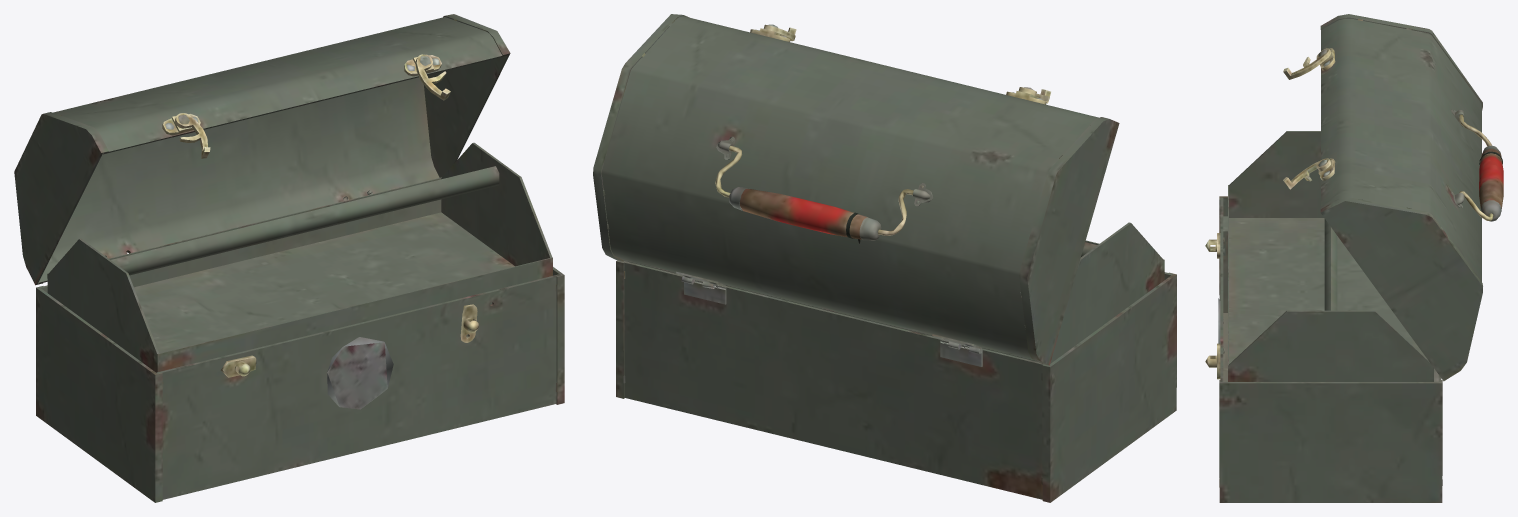
File: ph_toolbox.glb
3 renders of one model, left to right at view 1: azimuth 30°, elevation 25°; view 2: azimuth 150°, elevation 25°; view 3: azimuth 270°, elevation 25°, orthographic. The views are drawn at different scales.
Visible parts, largest first — view 1: Cylinder.015, metal_toolbox, metal_toolbox_tray, metal_toolbox_handle_latch_r, metal_toolbox_handle_latch_l; view 2: Cylinder.015, metal_toolbox, metal_toolbox_tray, metal_toolbox_handle; view 3: Cylinder.015, metal_toolbox_tray, metal_toolbox, metal_toolbox_handle, metal_toolbox_handle_latch_l, metal_toolbox_handle_latch_r.
Part boxes in pixels (bbox=[...]): Cylinder.015: bbox=[14, 14, 510, 285]; metal_toolbox: bbox=[36, 267, 564, 502]; metal_toolbox_tray: bbox=[47, 142, 552, 372]; metal_toolbox_handle_latch_r: bbox=[415, 54, 450, 100]; metal_toolbox_handle_latch_l: bbox=[175, 113, 210, 158]; Cylinder.015: bbox=[593, 14, 1119, 365]; metal_toolbox: bbox=[616, 260, 1176, 502]; metal_toolbox_tray: bbox=[628, 222, 1164, 363]; metal_toolbox_handle: bbox=[715, 145, 913, 243]; Cylinder.015: bbox=[1318, 14, 1482, 381]; metal_toolbox_tray: bbox=[1228, 131, 1433, 381]; metal_toolbox: bbox=[1205, 196, 1442, 502]; metal_toolbox_handle: bbox=[1459, 114, 1503, 221]; metal_toolbox_handle_latch_l: bbox=[1283, 48, 1331, 79]; metal_toolbox_handle_latch_r: bbox=[1283, 158, 1330, 189].
Bounding box in the file's own units: 0.4 × 0.3047 × 0.2702.
Materials: 1 (1 with a texture image).
